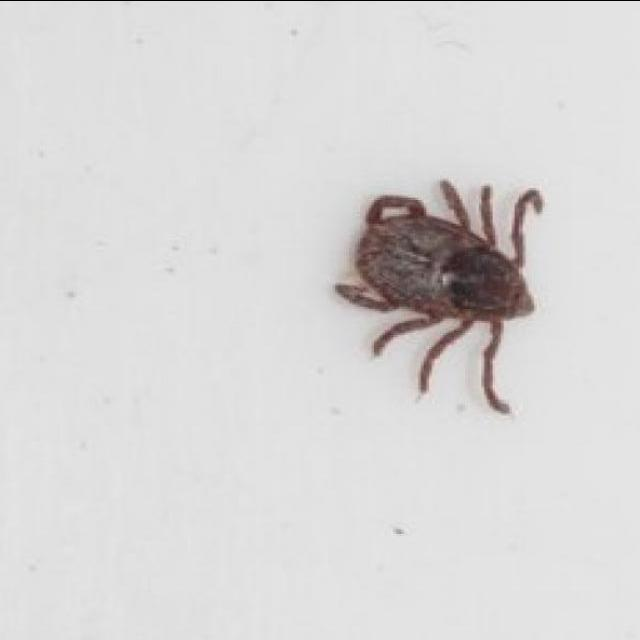Rhipicephalus Sanguineus-F: (330, 178, 545, 417)
